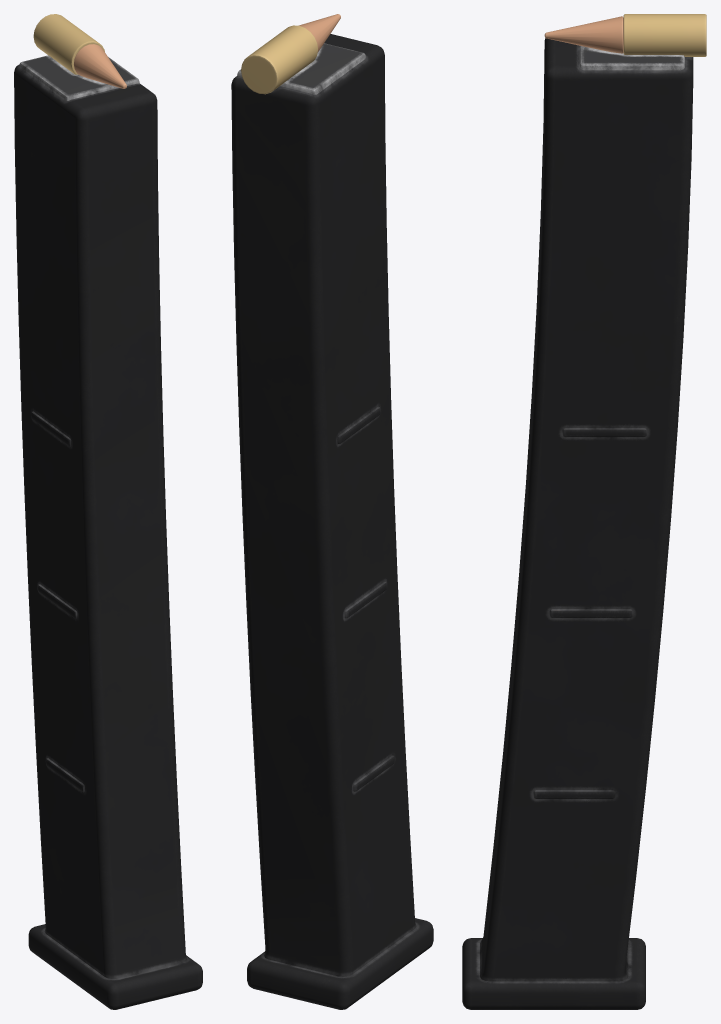
File: mag_vx45.glb
3 renders of one model, left to right at view 1: azimuth 30°, elevation 25°; view 2: azimuth 150°, elevation 25°; view 3: azimuth 270°, elevation 25°, orthographic. The views are drawn at different scales.
Parts seen in each view (by area): view 1: body; view 2: body; view 3: body.
Part boxes in pixels (x1,y1,x2,y2): body: (14,14,202,1009); body: (231,14,433,1009); body: (462,14,706,1009).
Bounding box in the file's own units: 0.027 × 0.2456 × 0.0558.
Materials: 1 (1 with a texture image).
